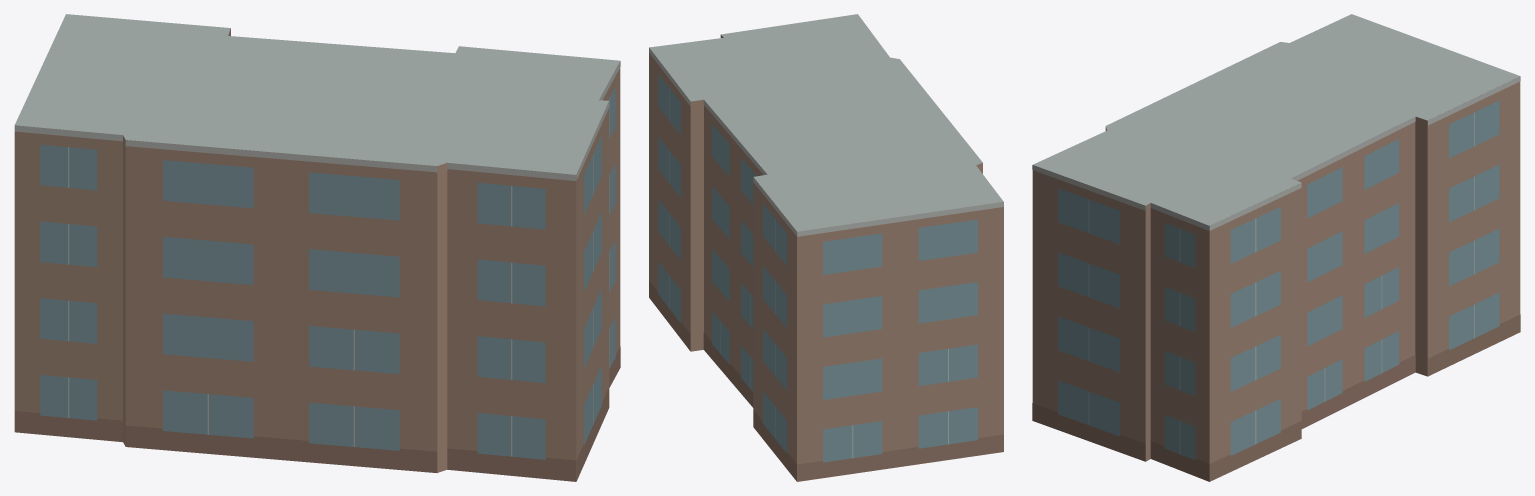
File: survey-upis-32888424.glb
The picture shows the model from 3 angles, left to right: view 1: azimuth 30°, elevation 25°; view 2: azimuth 150°, elevation 25°; view 3: azimuth 270°, elevation 25°; orthographic projection. The views are drawn at different scales.
Visible parts, largest first — view 1: survey-upis-32888424.tmp; view 2: survey-upis-32888424.tmp; view 3: survey-upis-32888424.tmp.
Boxes of the visible parts, box(x1,y1,x2,y2) form: survey-upis-32888424.tmp: box(14, 14, 620, 481); survey-upis-32888424.tmp: box(649, 14, 1003, 481); survey-upis-32888424.tmp: box(1032, 14, 1520, 481).
Bounding box in the file's own units: 21.31 × 12 × 20.73.
